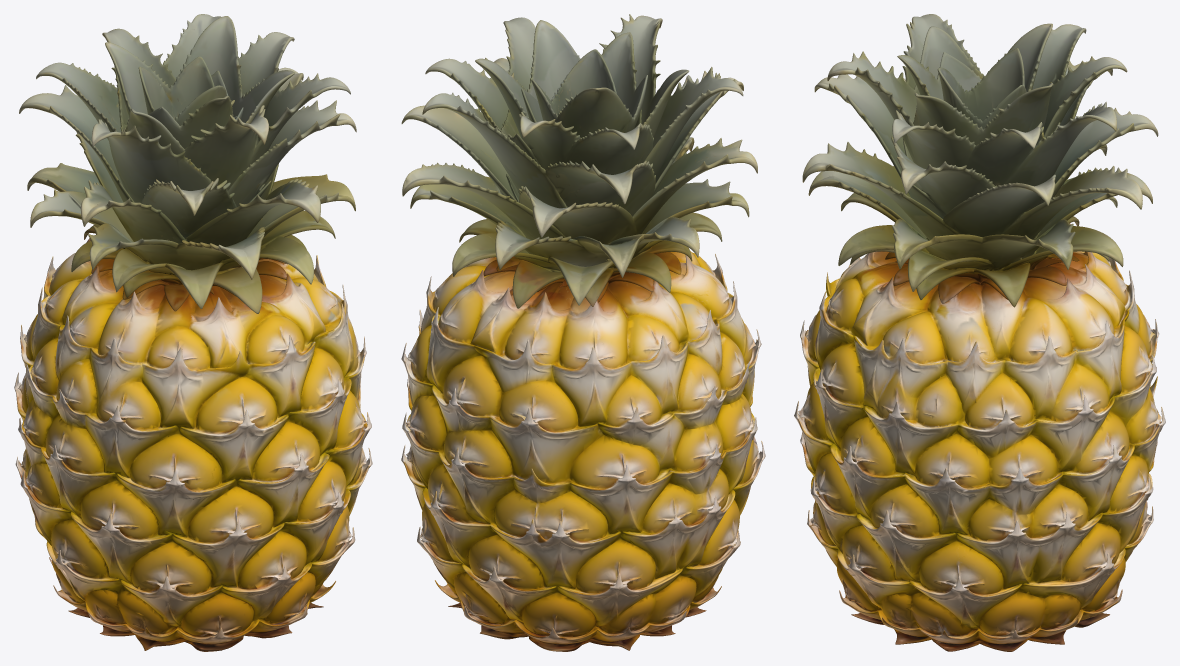
Rendered from boluo-v2.glb.
3 views of the same model, side by side, from view 1: azimuth 30°, elevation 25°; view 2: azimuth 150°, elevation 25°; view 3: azimuth 270°, elevation 25° (orthographic).
Parts seen in each view (by area): view 1: node_0; view 2: node_0; view 3: node_0.
Boxes of the visible parts, bbox=[...] form: node_0: bbox=[14, 14, 372, 651]; node_0: bbox=[401, 14, 765, 651]; node_0: bbox=[794, 14, 1165, 651].
Size of the model in its own units: 0.6621 by 1.14 by 0.6807.
1 material, 1 textured.
